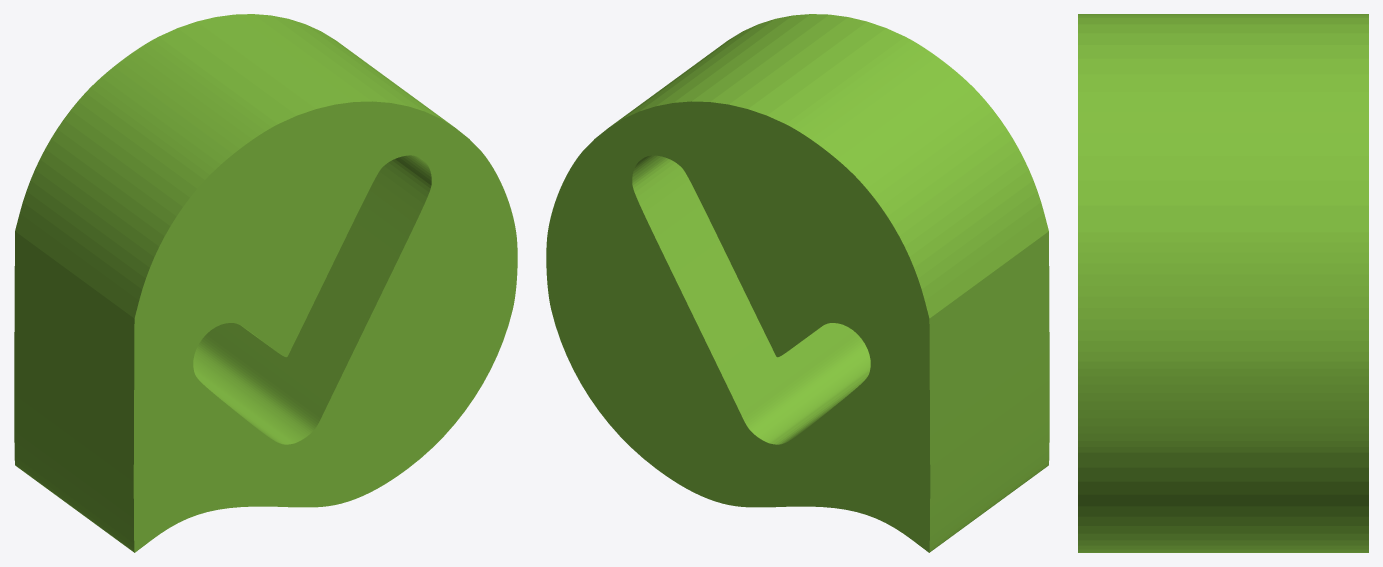
File: ok_blender.fbx
The picture shows the model from 3 angles, left to right: view 1: azimuth 30°, elevation 25°; view 2: azimuth 150°, elevation 25°; view 3: azimuth 270°, elevation 25°; orthographic projection. The views are drawn at different scales.
Parts seen in each view (by area): view 1: path3728; view 2: path3728; view 3: path3728.
Part boxes in pixels (x1,y1,x2,y2): path3728: [14, 14, 517, 552]; path3728: [546, 14, 1049, 552]; path3728: [1078, 14, 1368, 552].
Size of the model in its own units: 0.00185 by 0.00185 by 0.001.
